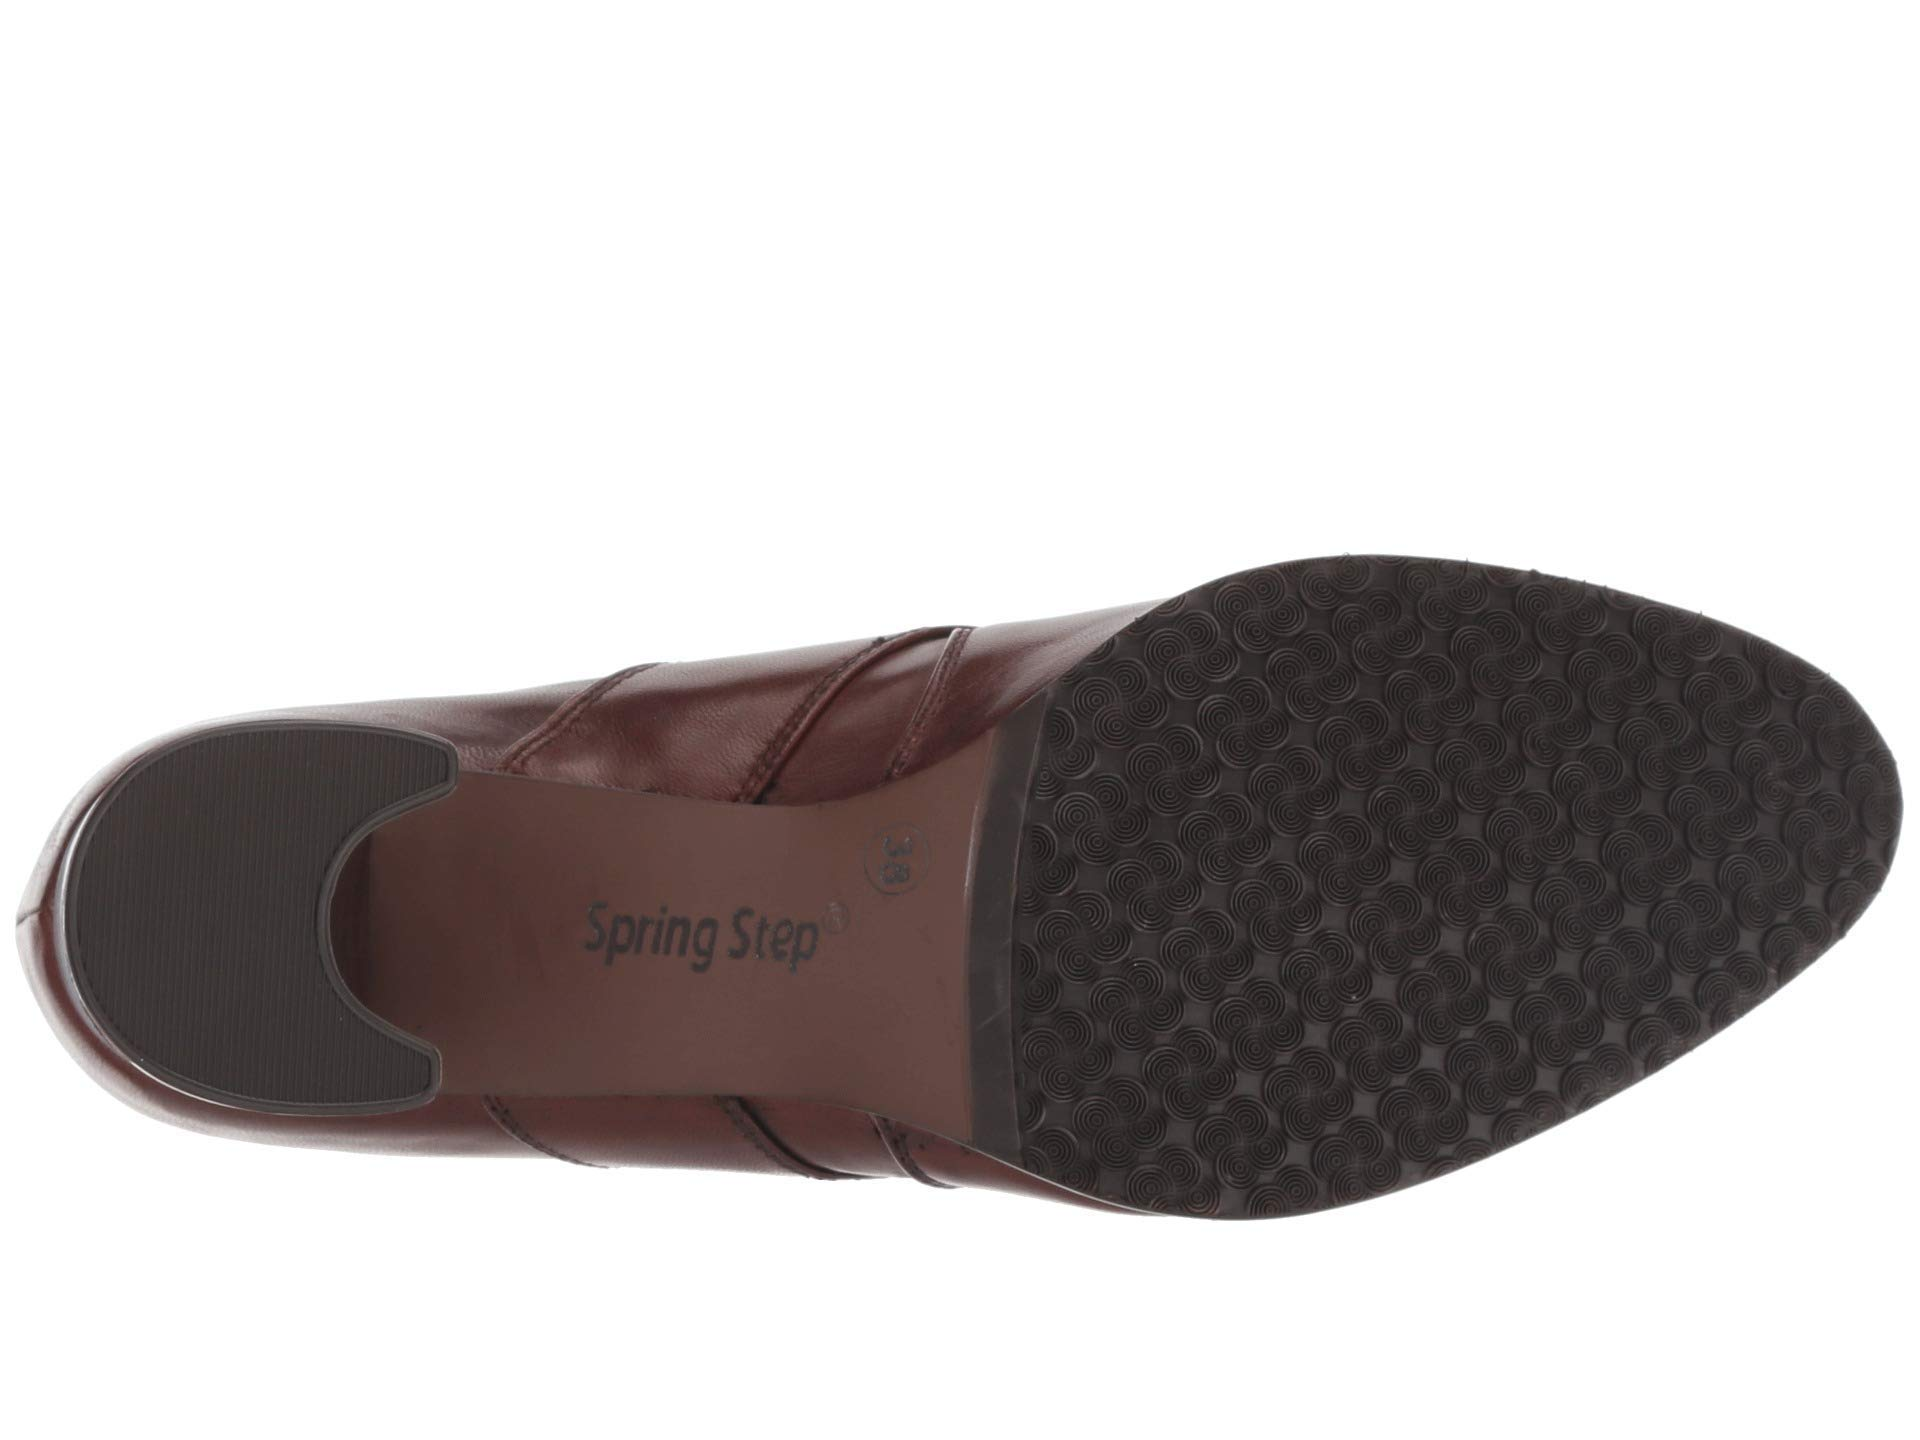circle: (1158, 599, 1652, 1092), (848, 803, 946, 903)
line: (121, 768, 311, 1057)
other: (1158, 599, 1652, 1092)
quad: (1158, 599, 1652, 1092)
text: (541, 867, 838, 1051), (848, 803, 946, 903)
